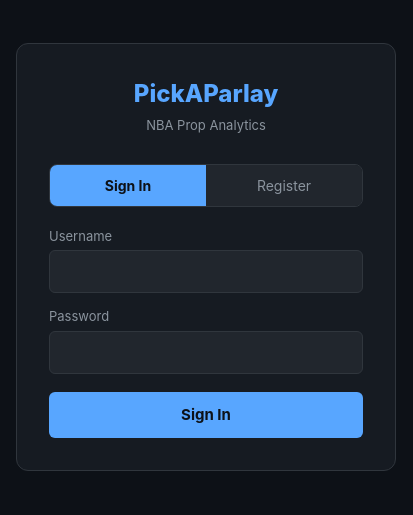
Scenario: LoginPage › shows a plain error when the body isn't JSON
Type "mike" into the field at (206, 272), box [49,250,363,293]
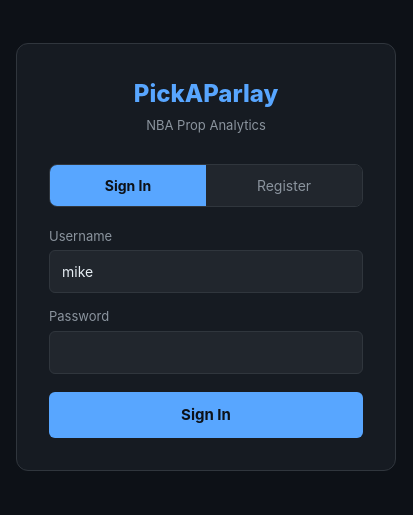
Type "pw" into the password field at (206, 352), box [49,330,363,374]
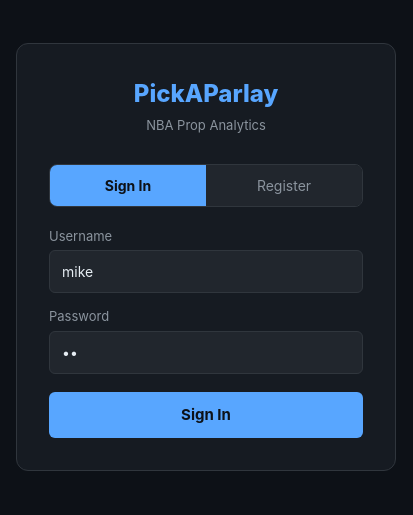
Click the submit button at (206, 415), box [49,392,363,438]
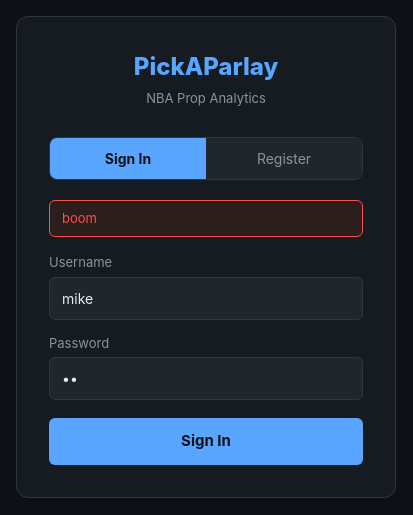
Check: the text "boom" is shown, box [49,200,363,237]
